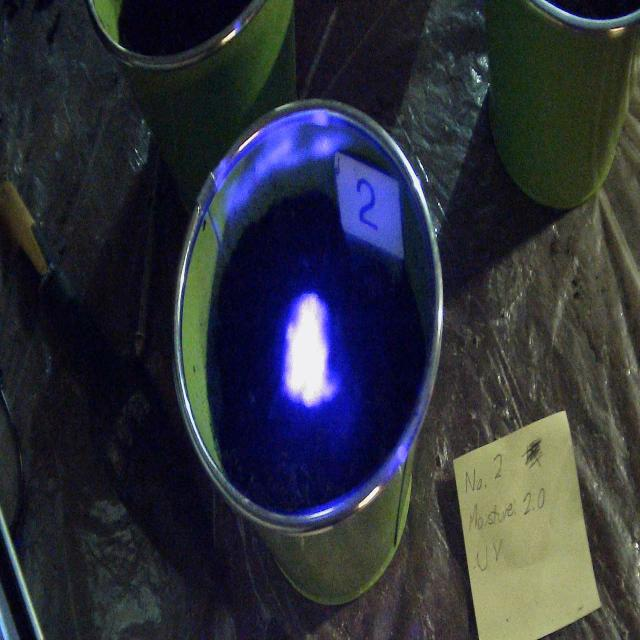soil-moisture-2.0: (282, 290, 342, 412)
